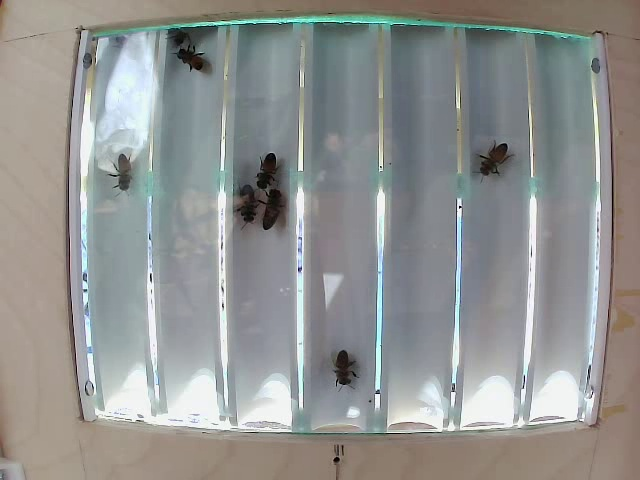bee: (106, 150, 146, 203), (253, 191, 296, 235), (327, 342, 361, 395), (227, 176, 258, 223), (173, 50, 210, 89), (252, 132, 285, 174), (479, 137, 500, 179)
